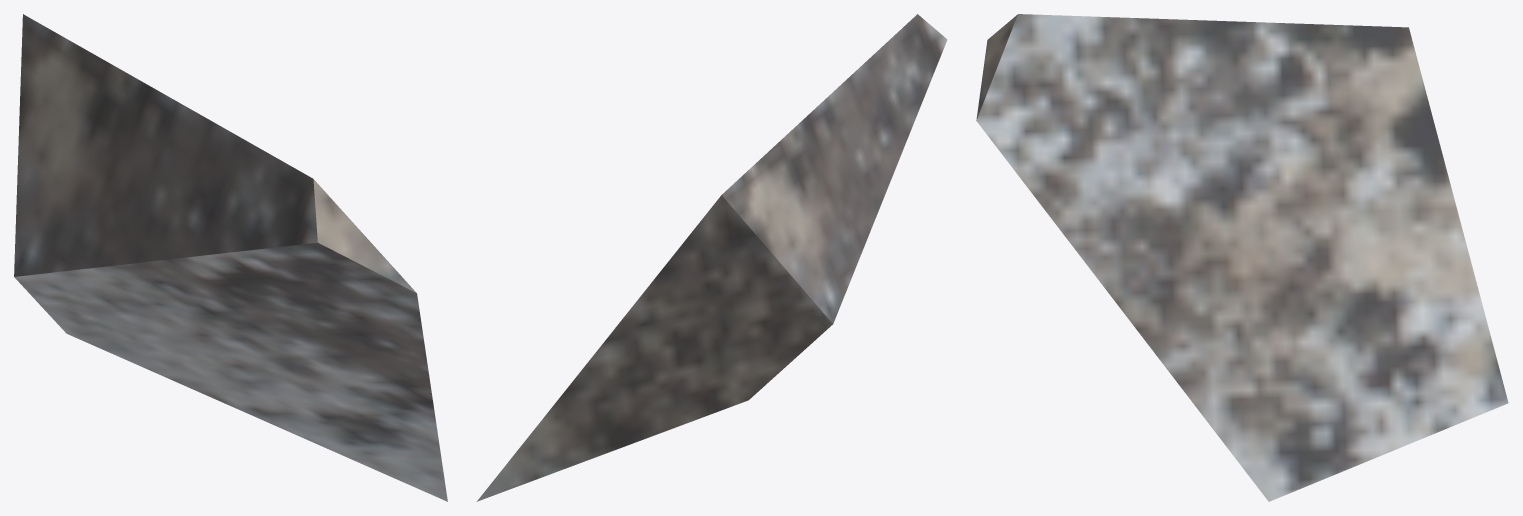
The model's file is Asteroid_Large_001_02_003_03_014.fbx.
3 renders of one model, left to right at view 1: azimuth 30°, elevation 25°; view 2: azimuth 150°, elevation 25°; view 3: azimuth 270°, elevation 25°, orthographic. The views are drawn at different scales.
Visible parts, largest first — view 1: Asteroid_Large_001_02_003_03_014; view 2: Asteroid_Large_001_02_003_03_014; view 3: Asteroid_Large_001_02_003_03_014.
Part boxes in pixels (bbox=[...]): Asteroid_Large_001_02_003_03_014: bbox=[14, 14, 447, 501]; Asteroid_Large_001_02_003_03_014: bbox=[476, 14, 947, 501]; Asteroid_Large_001_02_003_03_014: bbox=[976, 14, 1508, 501].
Bounding box in the file's own units: 1.78 × 2.21 × 2.81.
